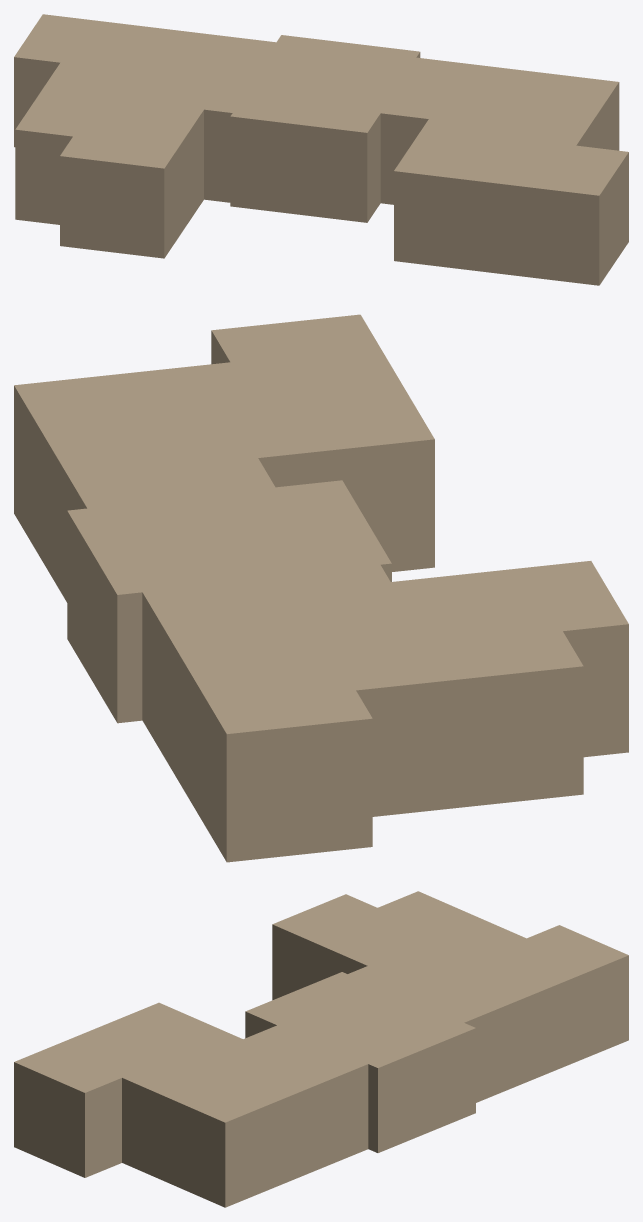
File: bld_99028062.dae
3 renders of one model, top to bottom at view 1: azimuth 30°, elevation 25°; view 2: azimuth 150°, elevation 25°; view 3: azimuth 270°, elevation 25°, orthographic. The views are drawn at different scales.
Parts seen in each view (by area): view 1: bld_99028062; view 2: bld_99028062; view 3: bld_99028062.
Part boxes in pixels (x1,y1,x2,y2): bld_99028062: (14,14,628,285); bld_99028062: (14,314,628,862); bld_99028062: (14,891,628,1207).
Size of the model in its own units: 46.68 by 52.39 by 8.
